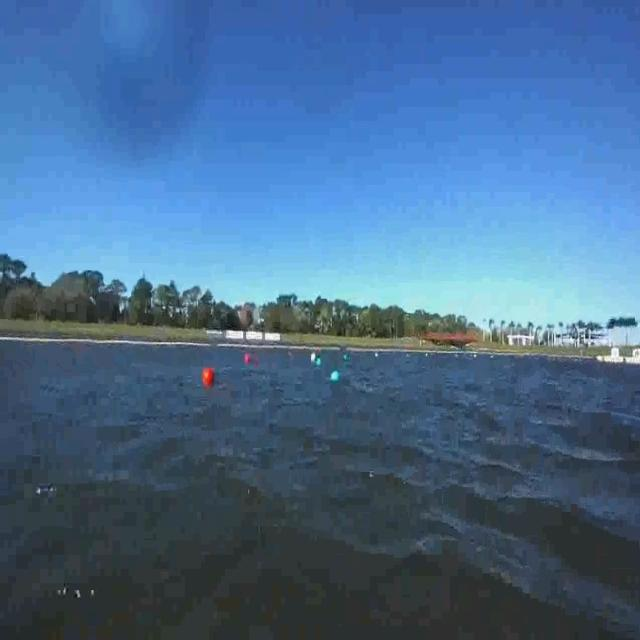green-buoy: (328, 361, 343, 392), (315, 354, 326, 371)
red-buoy: (200, 362, 216, 391), (241, 347, 252, 367)
